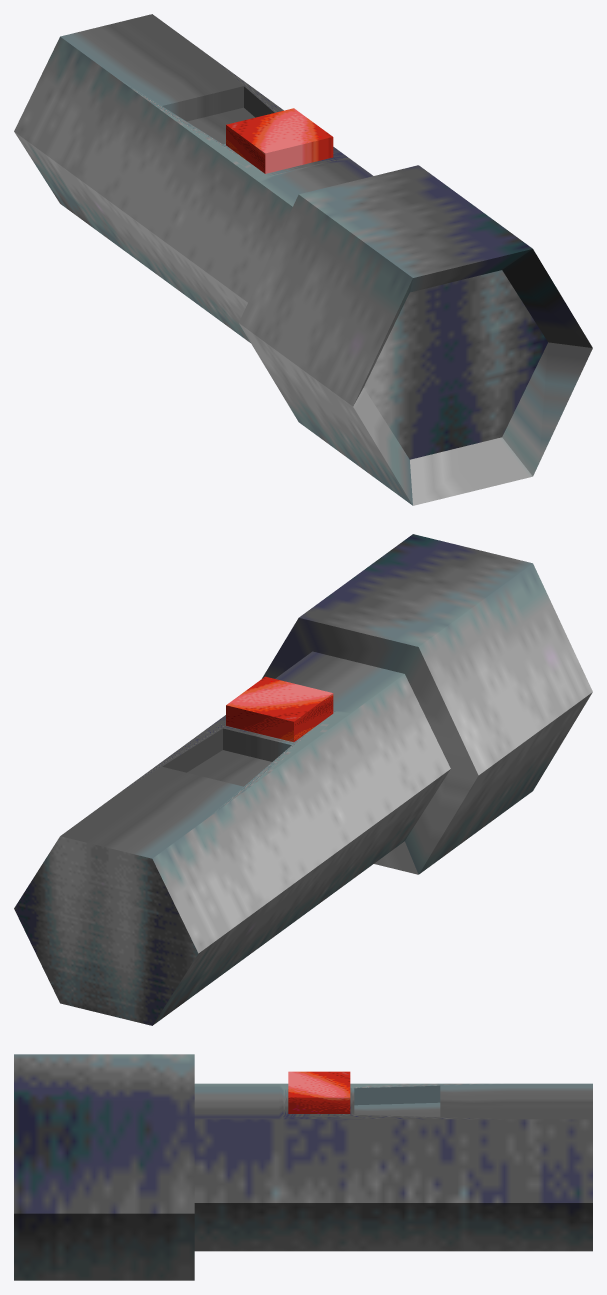
Rendered from lantern 1.fbx.
3 views of the same model, one above another, from view 1: azimuth 30°, elevation 25°; view 2: azimuth 150°, elevation 25°; view 3: azimuth 270°, elevation 25° (orthographic). The views are drawn at different scales.
Visible parts, largest first — view 1: pCylinder1, pCube1; view 2: pCylinder1, pCube1; view 3: pCylinder1, pCube1.
Boxes of the visible parts, box(x1,y1,x2,y2) form: pCylinder1: box(14, 14, 592, 505); pCube1: box(226, 108, 333, 173); pCylinder1: box(14, 534, 592, 1025); pCube1: box(226, 676, 333, 742); pCylinder1: box(14, 1054, 592, 1280); pCube1: box(288, 1071, 350, 1113).
Size of the model in its own units: 2.6 by 2.36 by 6.89.
Materials: 2 (2 with a texture image).
